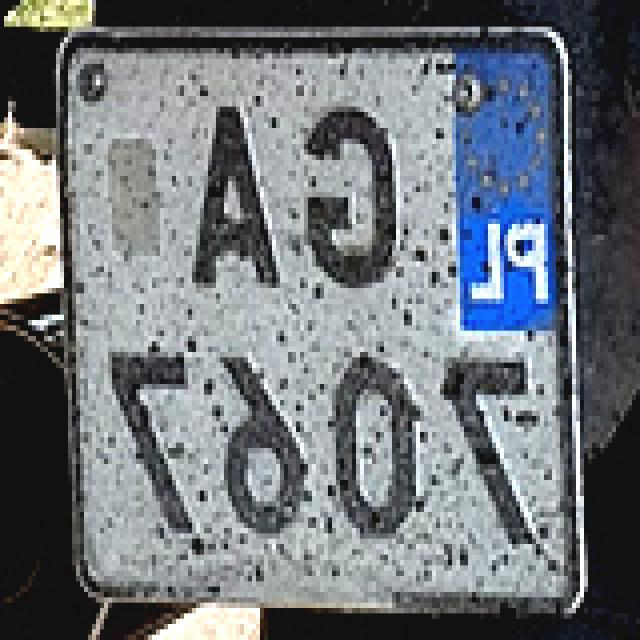pl_license_plate: (68, 32, 572, 592)
